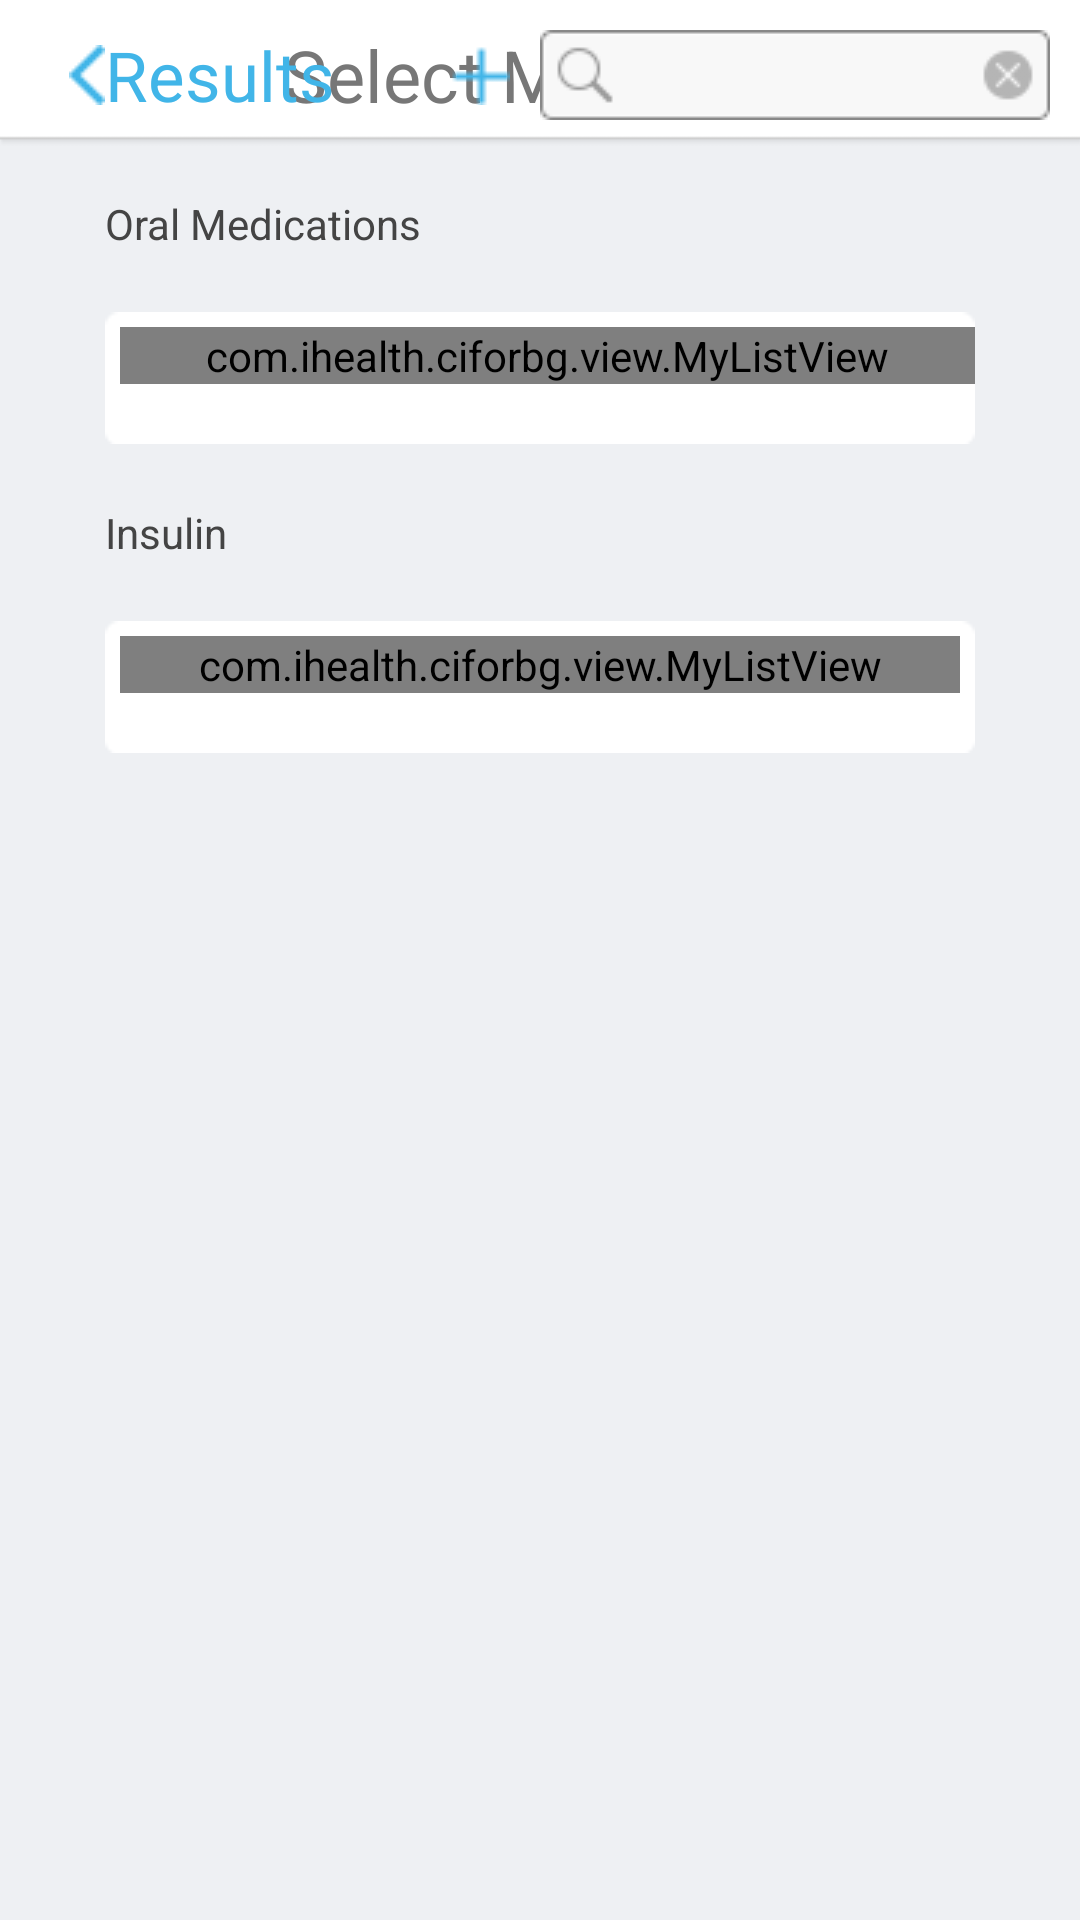

Named icons in this screenshot (1080w x 1920h) and their bounding boxes, (x1, y1, x2, y2):
back: (69, 45, 105, 105)
cancel: (983, 50, 1033, 100)
search: (557, 47, 613, 103)
